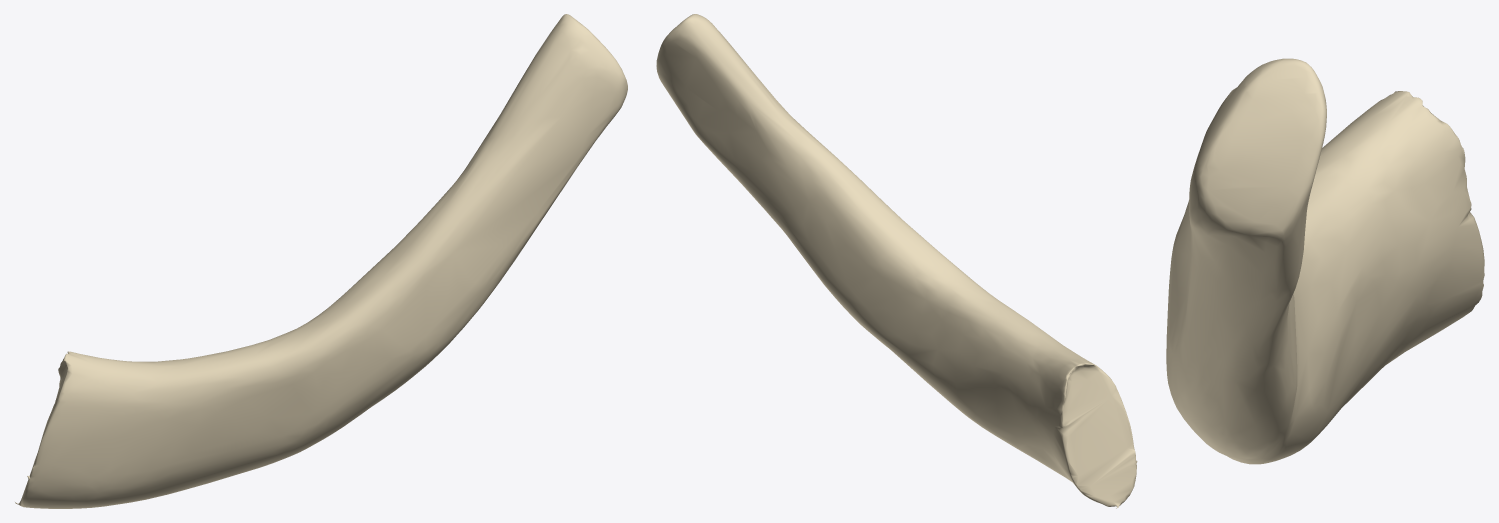
The model's file is esqueleto-costal-cartilage-of-sixth-rib-r.glb.
3 views of the same model, side by side, from view 1: azimuth 30°, elevation 25°; view 2: azimuth 150°, elevation 25°; view 3: azimuth 270°, elevation 25° (orthographic). The views are drawn at different scales.
Parts seen in each view (by area): view 1: Costal cartilage of sixth rib.r; view 2: Costal cartilage of sixth rib.r; view 3: Costal cartilage of sixth rib.r.
Boxes of the visible parts, x1=… form: Costal cartilage of sixth rib.r: x1=15, y1=14, x2=627, y2=508; Costal cartilage of sixth rib.r: x1=656, y1=14, x2=1137, y2=508; Costal cartilage of sixth rib.r: x1=1166, y1=58, x2=1484, y2=464.
Size of the model in its own units: 0.0826 by 0.0557 by 0.0226.
